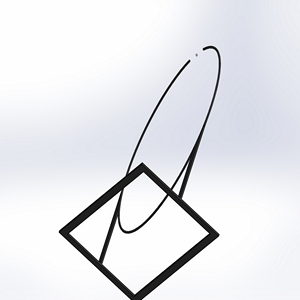circle: (57, 43, 222, 300)
